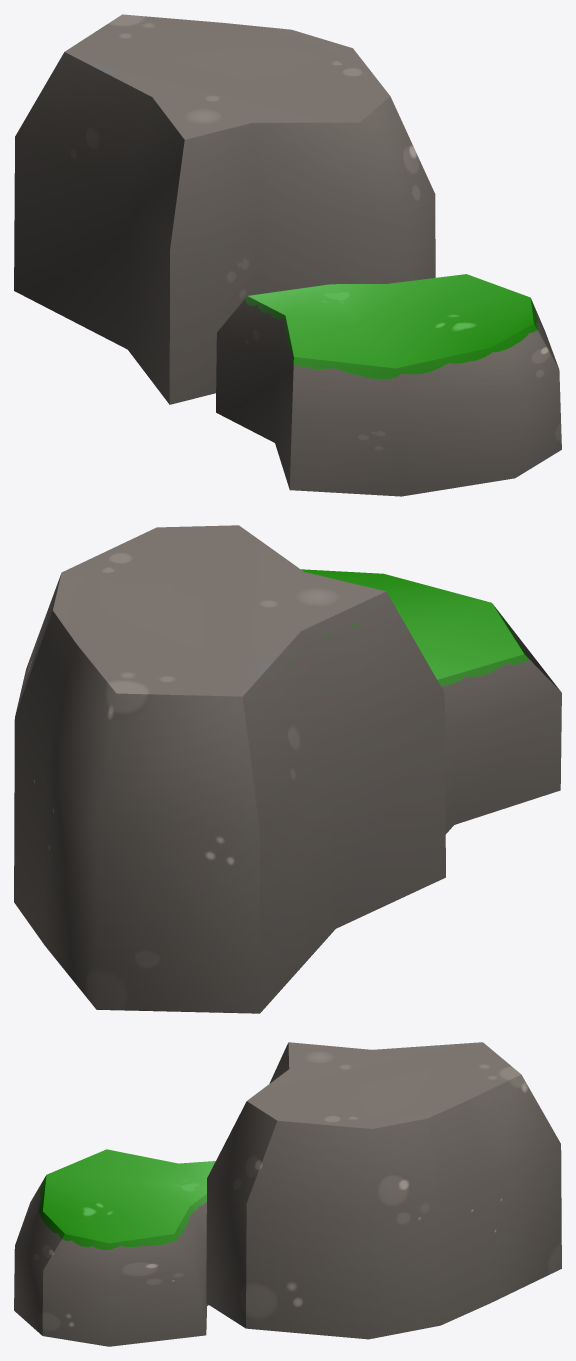
Rendered from rocas.fbx.
The picture shows the model from 3 angles, top to bottom: view 1: azimuth 30°, elevation 25°; view 2: azimuth 150°, elevation 25°; view 3: azimuth 270°, elevation 25°; orthographic projection. The views are drawn at different scales.
Parts seen in each view (by area): view 1: roca, roca1; view 2: roca, roca1; view 3: roca, roca1.
Part boxes in pixels (left/top/right/bottom): roca: left=14, top=14, right=435, bottom=404; roca1: left=216, top=274, right=561, bottom=496; roca: left=14, top=525, right=445, bottom=1013; roca1: left=301, top=569, right=561, bottom=834; roca: left=206, top=1042, right=561, bottom=1339; roca1: left=14, top=1149, right=215, bottom=1346.
Size of the model in its own units: 1.33 by 1.13 by 2.73.
